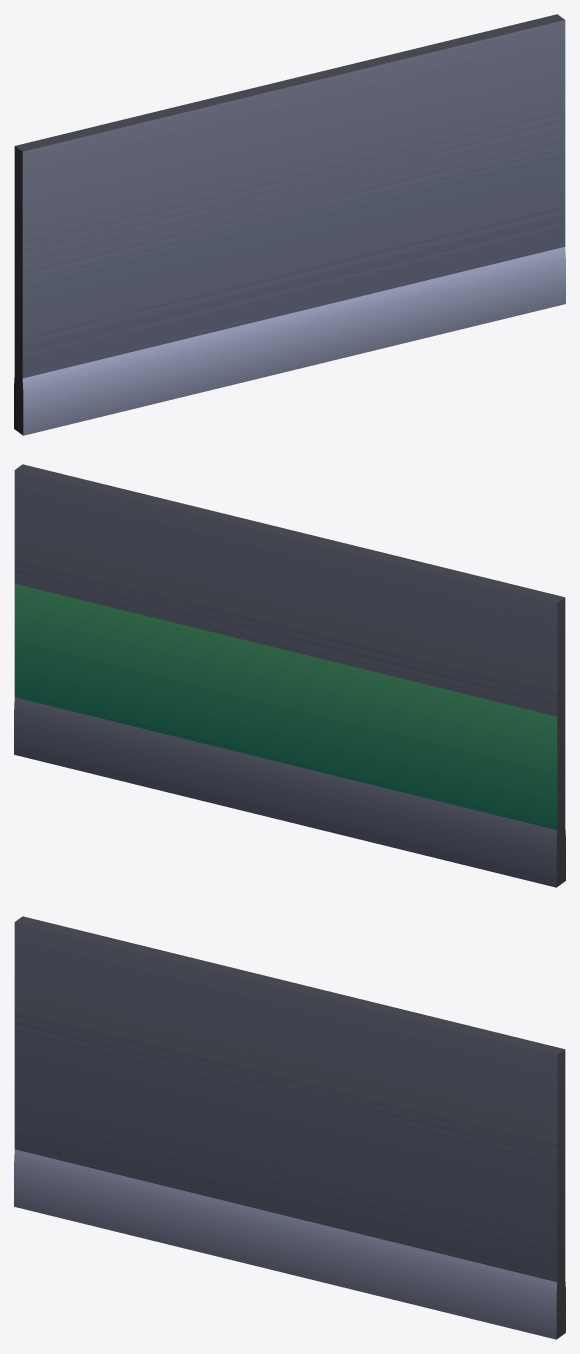
File: wall.065_lev2.glb
The picture shows the model from 3 angles, top to bottom: view 1: azimuth 30°, elevation 25°; view 2: azimuth 150°, elevation 25°; view 3: azimuth 330°, elevation 25°; orthographic projection.
Parts seen in each view (by area): view 1: wall.065_lev2; view 2: wall.065_lev2; view 3: wall.065_lev2.
Part boxes in pixels (bbox=[...]): wall.065_lev2: bbox=[14, 14, 565, 435]; wall.065_lev2: bbox=[14, 464, 565, 887]; wall.065_lev2: bbox=[14, 916, 565, 1339].
Size of the model in its own units: 8 by 4 by 0.2564.
Materials: 1 (1 with a texture image).
